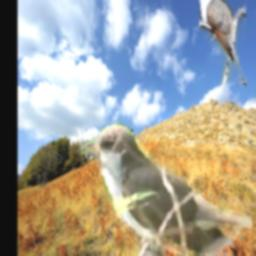Cuckoo: (82, 122, 253, 256), (199, 0, 246, 86)
